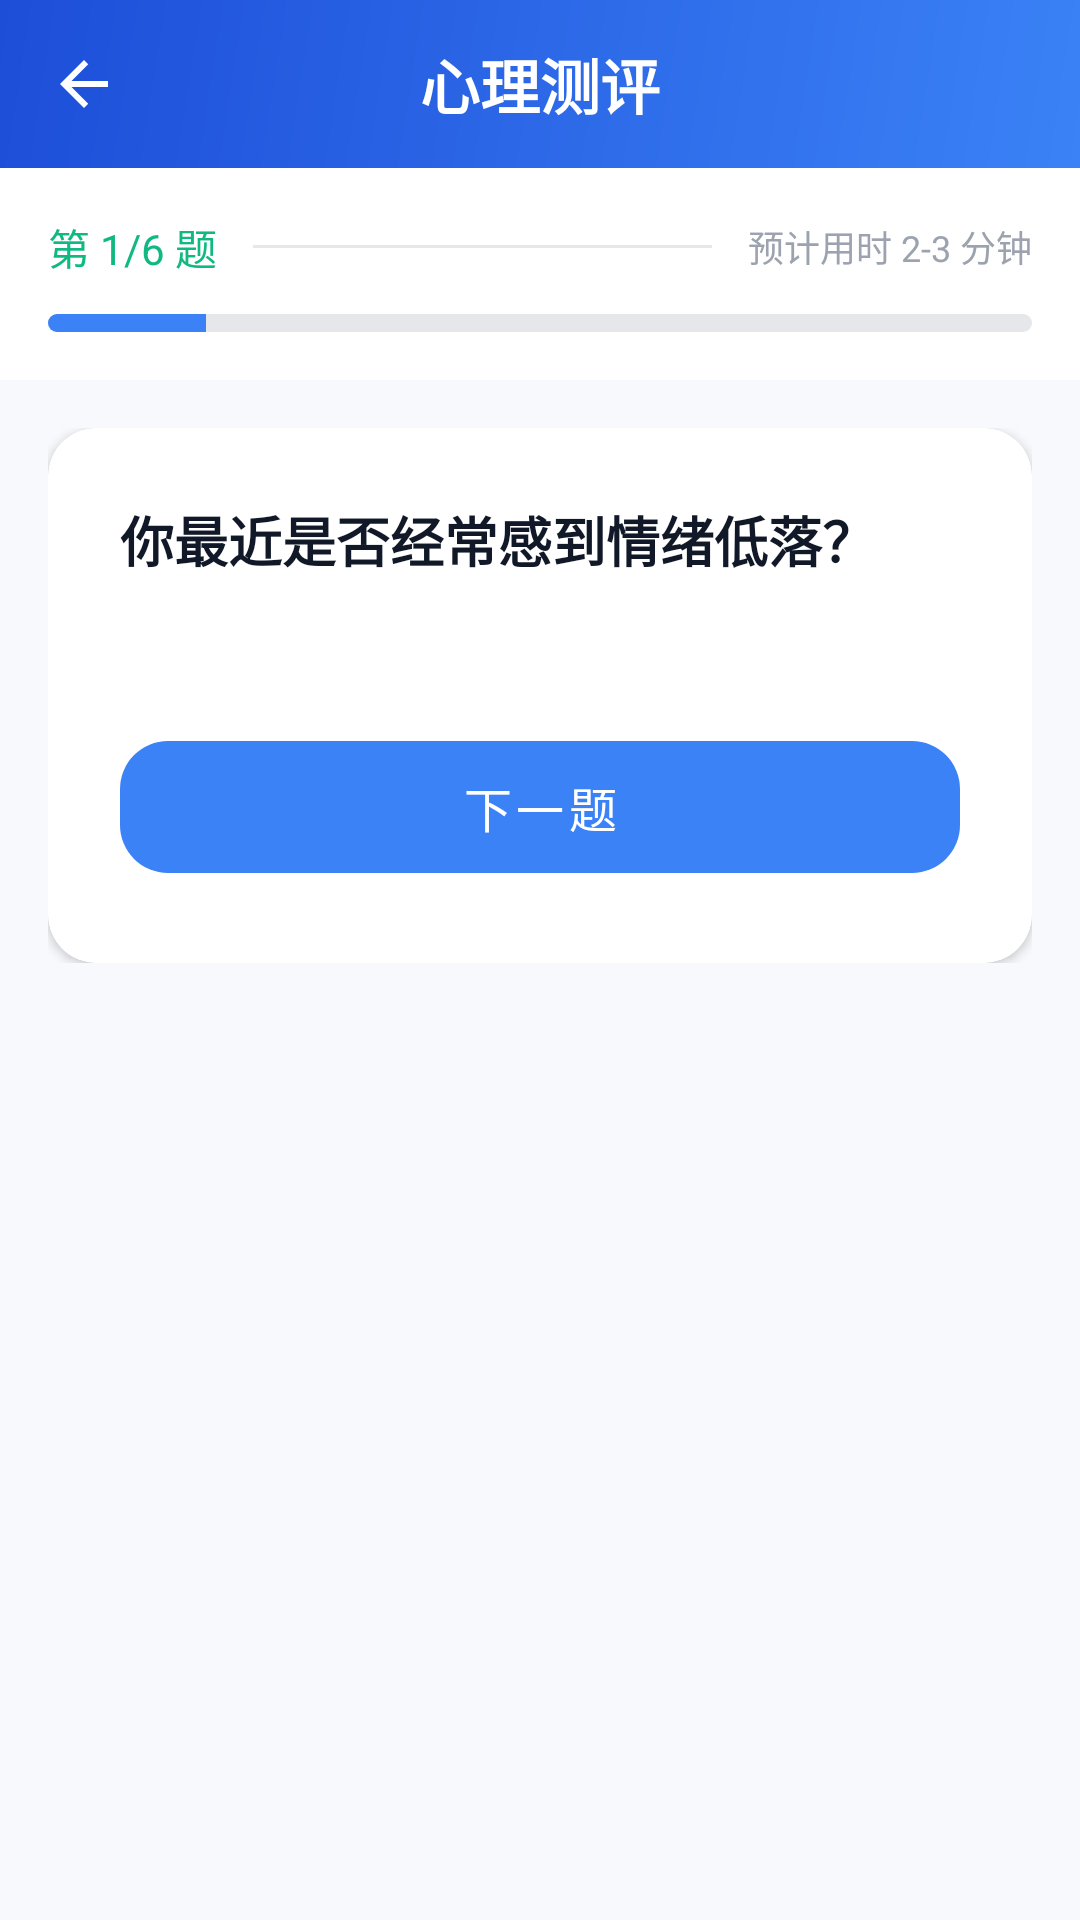

Named icons in this screenshot (1080px×1920px) and their centers, [x,y]:
返回: [84,84]
